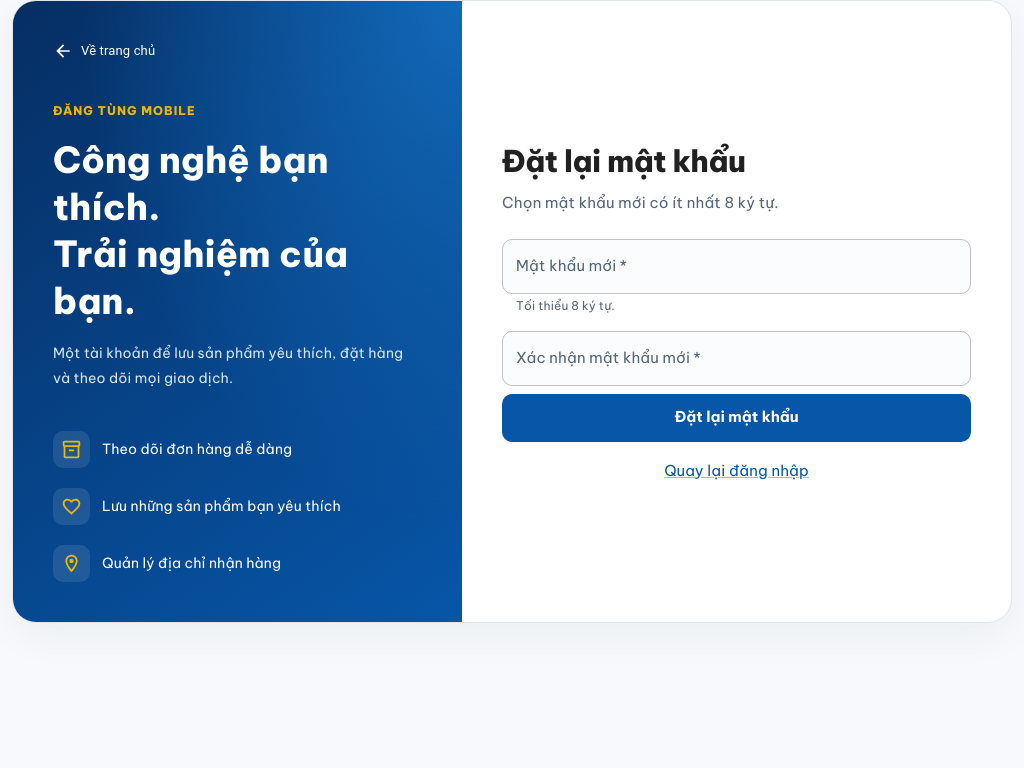
Scenario: reset-password form › does not display a server error when the reset token is invalid or expired
This screenshot has width=1024, height=768.
Type "new-strong-password" into the password field labelled "Mật khẩu mới *" at [737, 267], box left=502, top=239, right=971, bottom=294
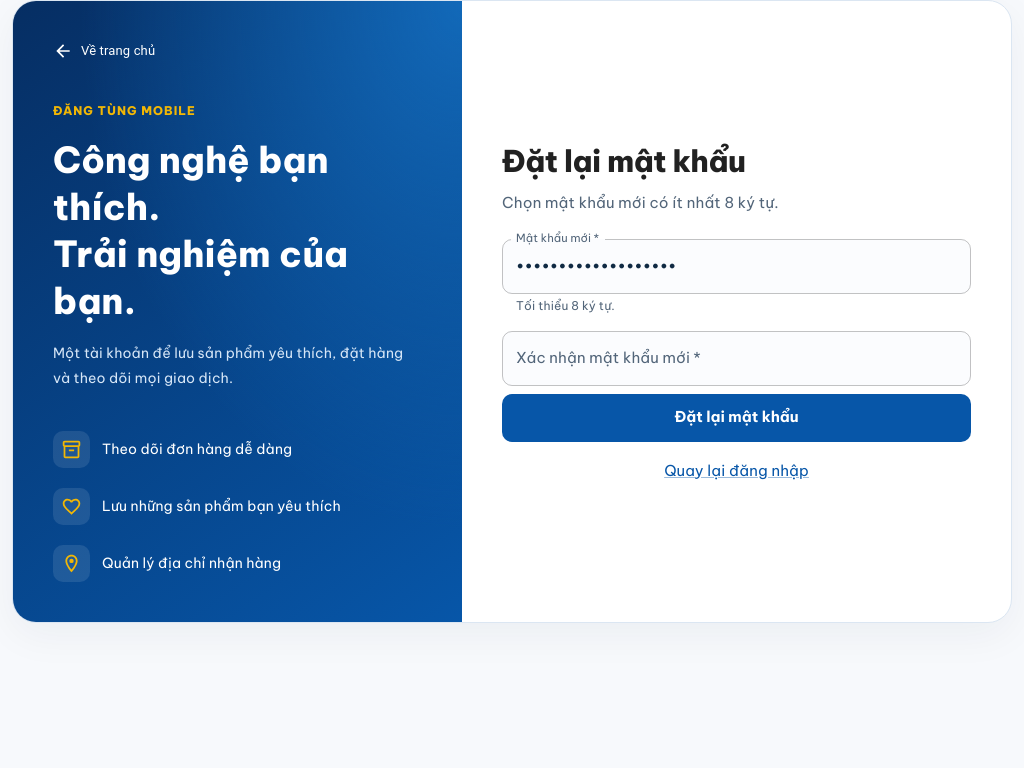
Type "new-strong-password" into the password field labelled "Xác nhận mật khẩu mới *" at [737, 358], box left=502, top=331, right=971, bottom=386
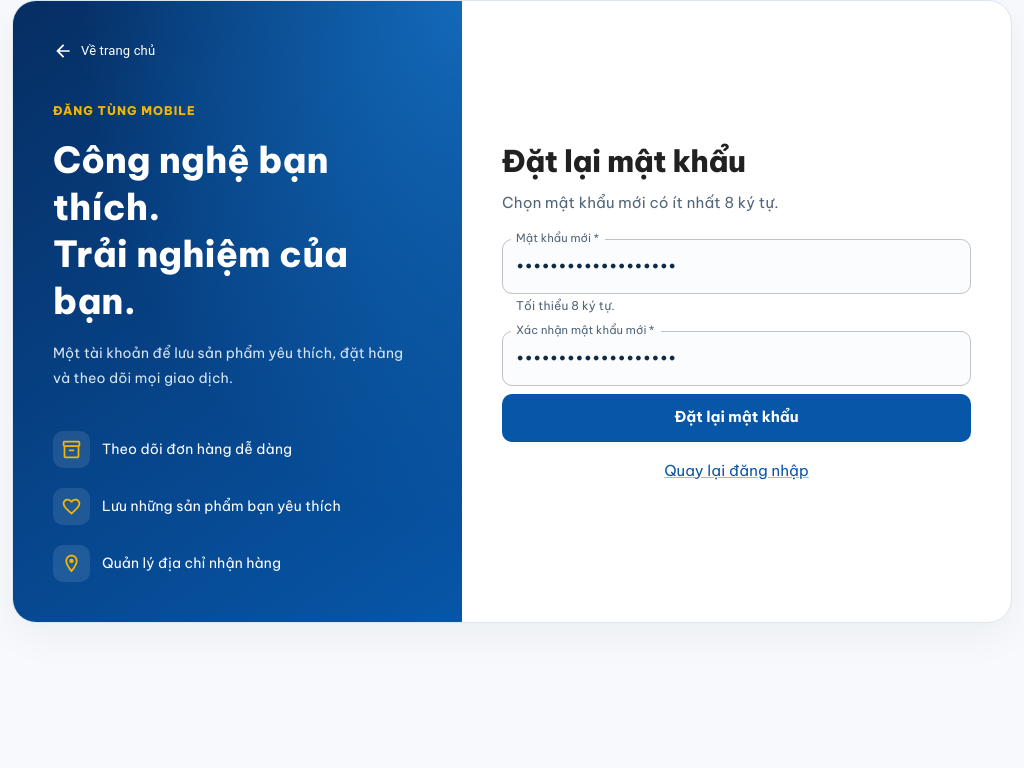
Click the button "Đặt lại mật khẩu" at [737, 418], box left=502, top=394, right=971, bottom=442
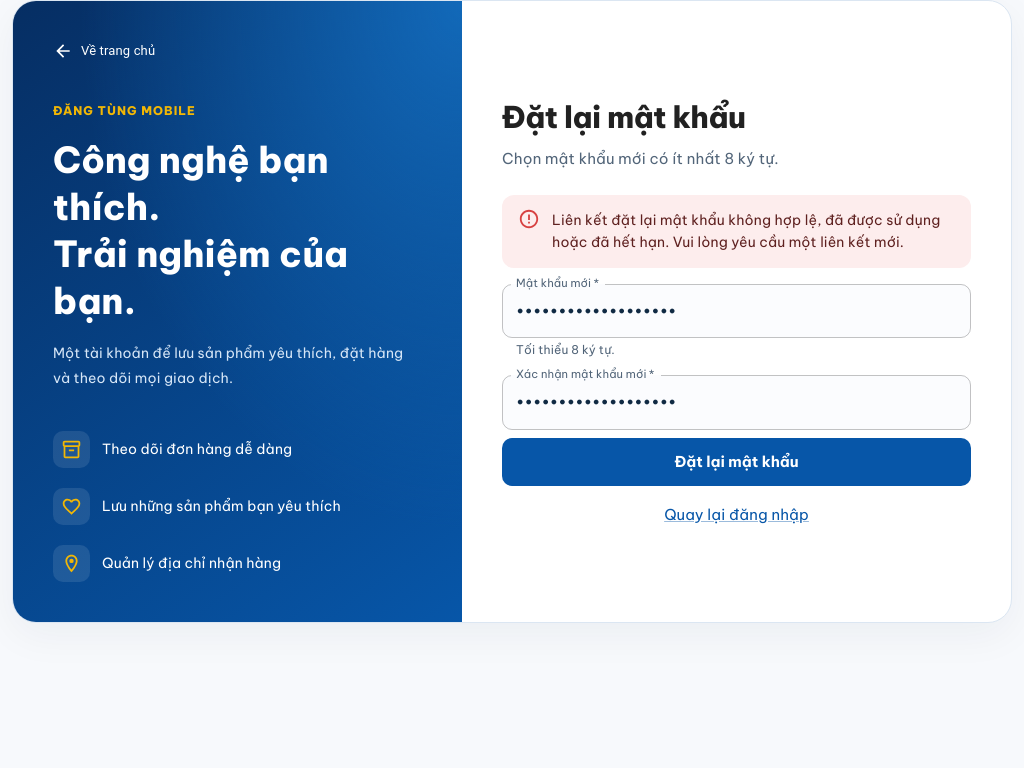
Check: the text "Liên kết đặt lại mật khẩu không hợp lệ, đã được sử dụng hoặc đã hết hạn. Vui lòng yêu cầu một liên kết mới." is shown, box left=552, top=211, right=940, bottom=251
